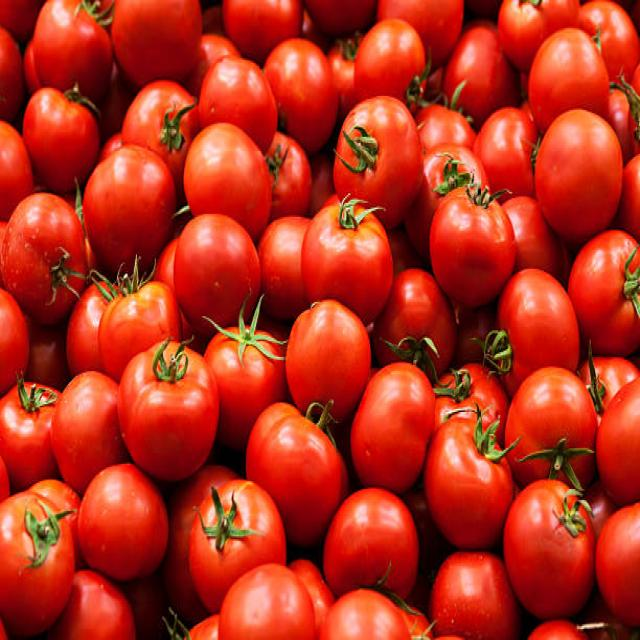Tomato: (243, 386, 351, 555), (116, 335, 222, 484), (188, 477, 288, 619), (421, 412, 518, 558), (501, 475, 599, 619), (482, 259, 578, 402), (532, 102, 629, 240), (507, 364, 601, 496), (429, 174, 520, 310), (284, 297, 374, 434), (202, 310, 292, 446), (298, 196, 394, 322), (0, 192, 88, 327), (330, 96, 426, 216), (172, 213, 264, 337), (0, 487, 82, 624), (179, 120, 274, 235), (79, 464, 170, 582), (322, 491, 416, 603), (356, 364, 440, 484), (51, 367, 131, 492), (375, 267, 454, 387), (568, 227, 640, 358), (93, 278, 185, 378), (1, 374, 69, 491), (116, 86, 201, 179)
